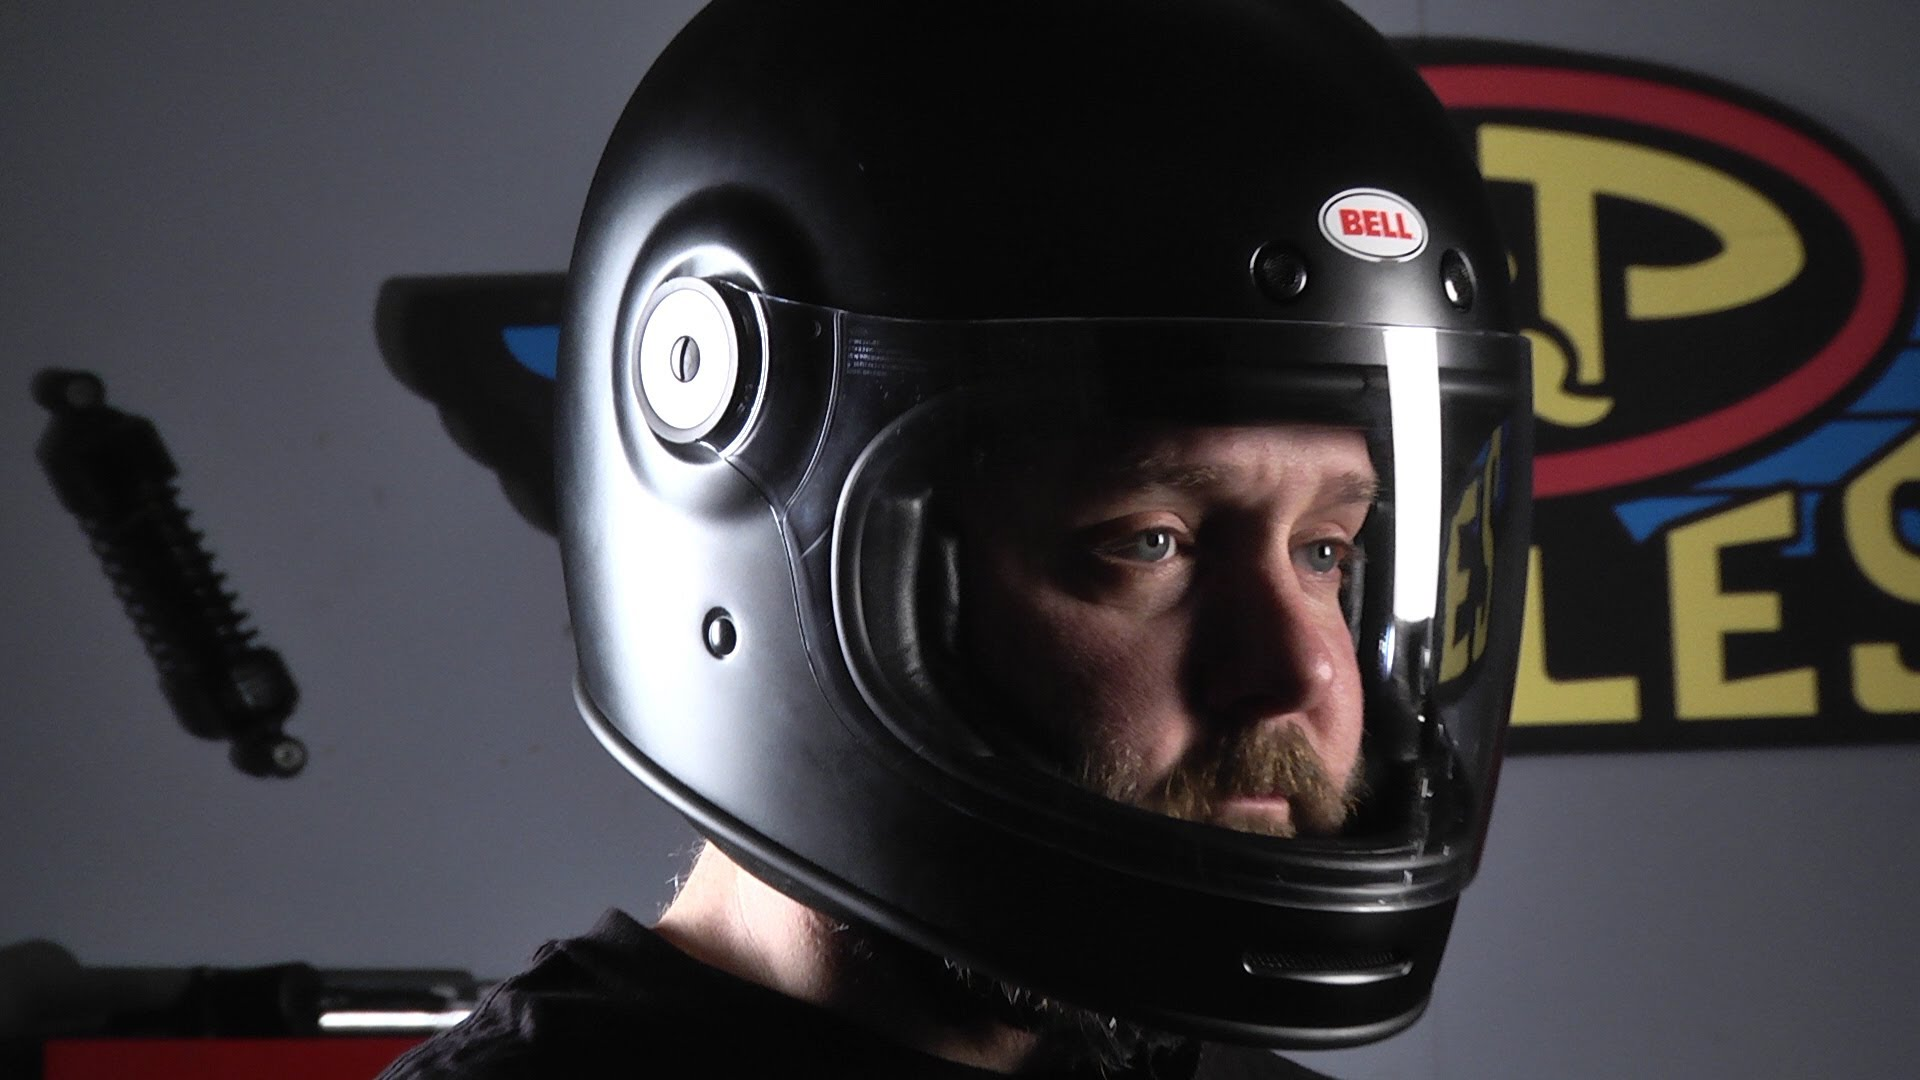helmet: (585, 3, 1547, 942)
